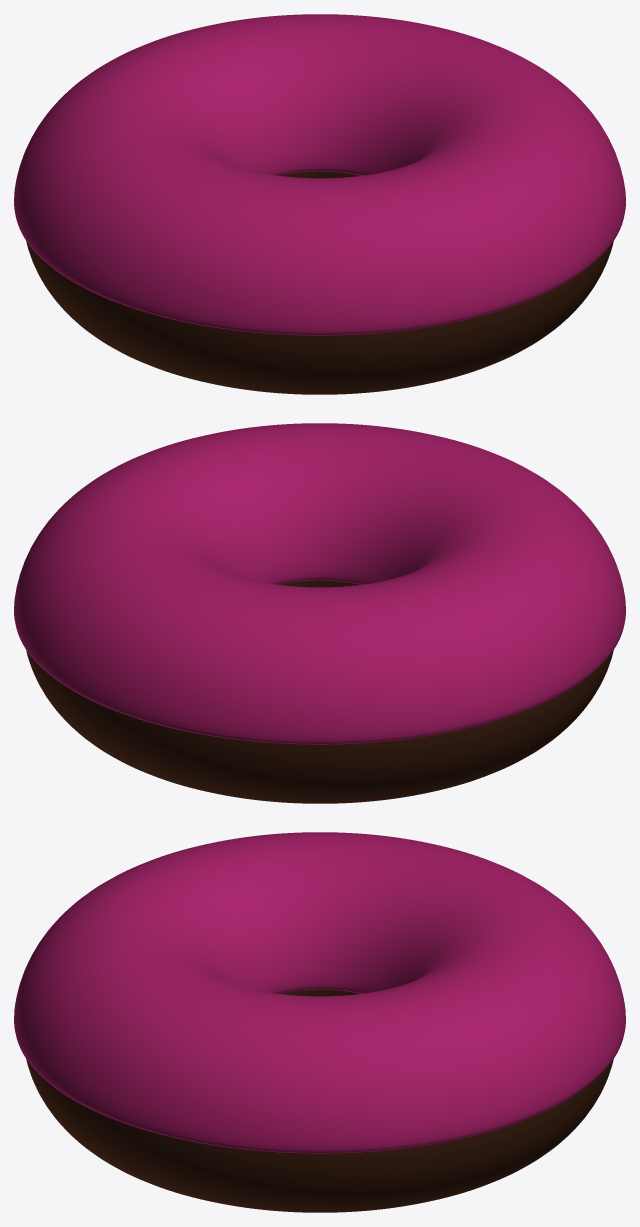
The model's file is donut.obj.
3 renders of one model, top to bottom at view 1: azimuth 30°, elevation 25°; view 2: azimuth 150°, elevation 25°; view 3: azimuth 270°, elevation 25°, orthographic.
Visible parts, largest first — view 1: Torus.000_Torus.003, Torus.002; view 2: Torus.000_Torus.003, Torus.002; view 3: Torus.000_Torus.003, Torus.002.
Part boxes in pixels (x1,y1,x2,y2): Torus.000_Torus.003: (14, 14, 625, 335); Torus.002: (26, 171, 613, 394); Torus.000_Torus.003: (14, 423, 625, 744); Torus.002: (26, 580, 613, 803); Torus.000_Torus.003: (14, 832, 625, 1153); Torus.002: (26, 989, 613, 1212).
Size of the model in its own units: 1.44 by 0.5112 by 1.44.
